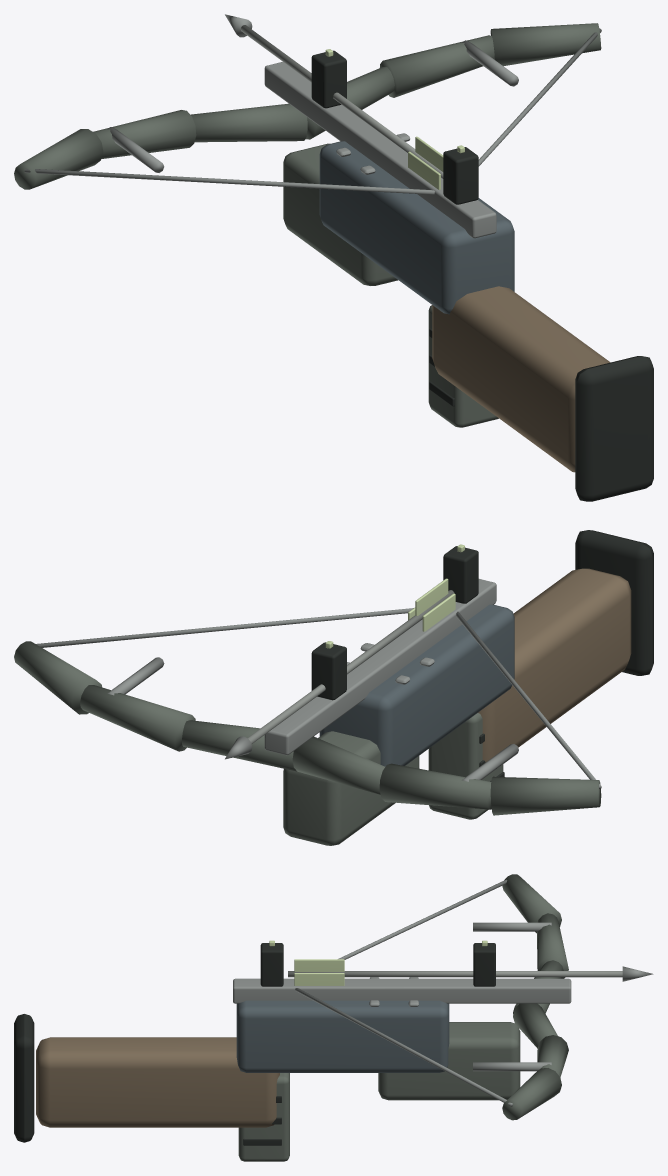
Rendered from crossbow.glb.
3 renders of one model, top to bottom at view 1: azimuth 30°, elevation 25°; view 2: azimuth 150°, elevation 25°; view 3: azimuth 270°, elevation 25°, orthographic. The views are drawn at different scales.
Parts seen in each view (by area): view 1: Stock, Receiver, Butt pad, Rail, Foregrip, Bow limb, Bow limb.005, Bow limb.004, Bow limb.001, Bow limb.002, Hand grip, Drawn string (+7 smaller); view 2: Stock, Receiver, Rail, Foregrip, Butt pad, Bow limb.001, Bow limb.002, Bow limb.004, Hand grip, Bow limb, Bow limb.005, Bow limb.003 (+9 smaller); view 3: Stock, Receiver, Rail, Foregrip, Butt pad, Hand grip, Bolt shaft, Bow limb.005, Bow limb.002, Bow limb.001, Bow limb.003, Drawn string.001 (+8 smaller).
Boxes of the visible parts, bbox=[...] form: Stock: bbox=[432, 286, 610, 472]; Receiver: bbox=[319, 141, 514, 314]; Butt pad: bbox=[575, 356, 653, 501]; Rail: bbox=[264, 62, 496, 238]; Foregrip: bbox=[283, 143, 397, 285]; Bow limb: bbox=[190, 103, 307, 142]; Bow limb.005: bbox=[490, 23, 601, 66]; Bow limb.004: bbox=[380, 35, 494, 97]; Bow limb.001: bbox=[93, 110, 196, 158]; Bow limb.002: bbox=[14, 129, 103, 189]; Hand grip: bbox=[428, 305, 498, 427]; Drawn string: bbox=[24, 168, 434, 194]; Stock: bbox=[478, 568, 631, 762]; Receiver: bbox=[319, 604, 514, 766]; Rail: bbox=[264, 579, 496, 755]; Foregrip: bbox=[283, 731, 419, 845]; Butt pad: bbox=[575, 530, 653, 675]; Bow limb.001: bbox=[379, 763, 491, 809]; Bow limb.002: bbox=[490, 776, 601, 815]; Bow limb.004: bbox=[80, 685, 195, 751]; Hand grip: bbox=[428, 713, 503, 819]; Bow limb: bbox=[292, 736, 385, 794]; Bow limb.005: bbox=[14, 641, 101, 714]; Bow limb.003: bbox=[182, 720, 296, 771]; Stock: bbox=[36, 1037, 279, 1127]; Receiver: bbox=[236, 1000, 449, 1072]; Rail: bbox=[233, 978, 571, 1003]; Foregrip: bbox=[378, 1022, 520, 1100]; Butt pad: bbox=[14, 1014, 34, 1142]; Hand grip: bbox=[238, 1073, 289, 1161]; Bolt shaft: bbox=[288, 971, 622, 977]; Bow limb.005: bbox=[502, 1068, 561, 1120]; Bow limb.002: bbox=[502, 874, 561, 933]; Bow limb.001: bbox=[537, 913, 568, 978]; Bow limb.003: bbox=[513, 1003, 557, 1048]; Drawn string.001: bbox=[295, 988, 512, 1106].
Bounding box in the file's own units: 0.6915 × 0.299 × 0.813.
